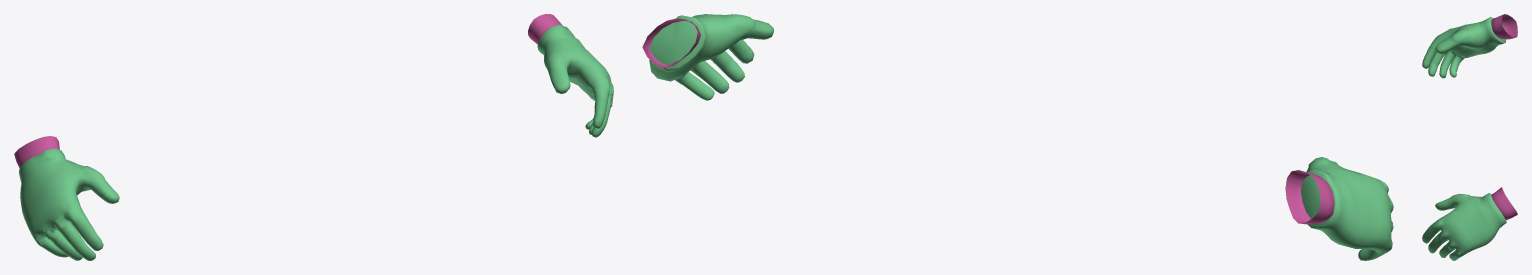
File: gloves2.obj
The picture shows the model from 3 angles, left to right: view 1: azimuth 30°, elevation 25°; view 2: azimuth 150°, elevation 25°; view 3: azimuth 270°, elevation 25°; orthographic projection. The views are drawn at different scales.
Parts seen in each view (by area): view 1: slav_gloves_2; view 2: slav_gloves_2; view 3: slav_gloves_2.
Part boxes in pixels (x1,y1,x2,y2): slav_gloves_2: [14, 14, 613, 260]; slav_gloves_2: [642, 14, 1393, 260]; slav_gloves_2: [1422, 14, 1517, 260].
Bounding box in the file's own units: 41.34 × 6.34 × 8.24.
